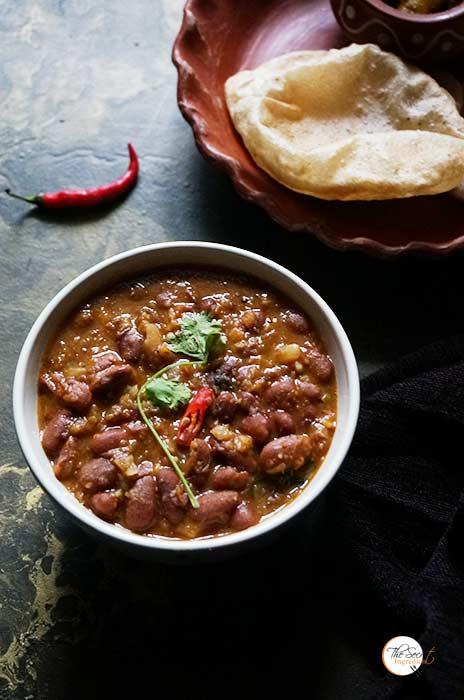rajma: (30, 247, 350, 568)
